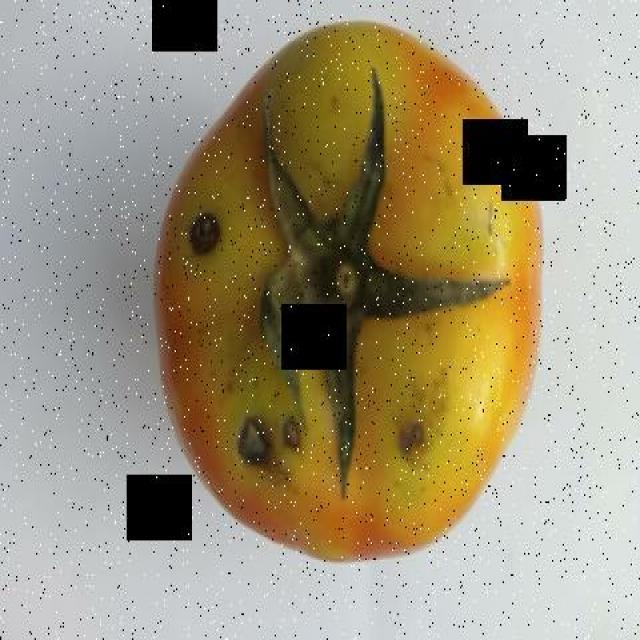tomato: (154, 25, 544, 559)
